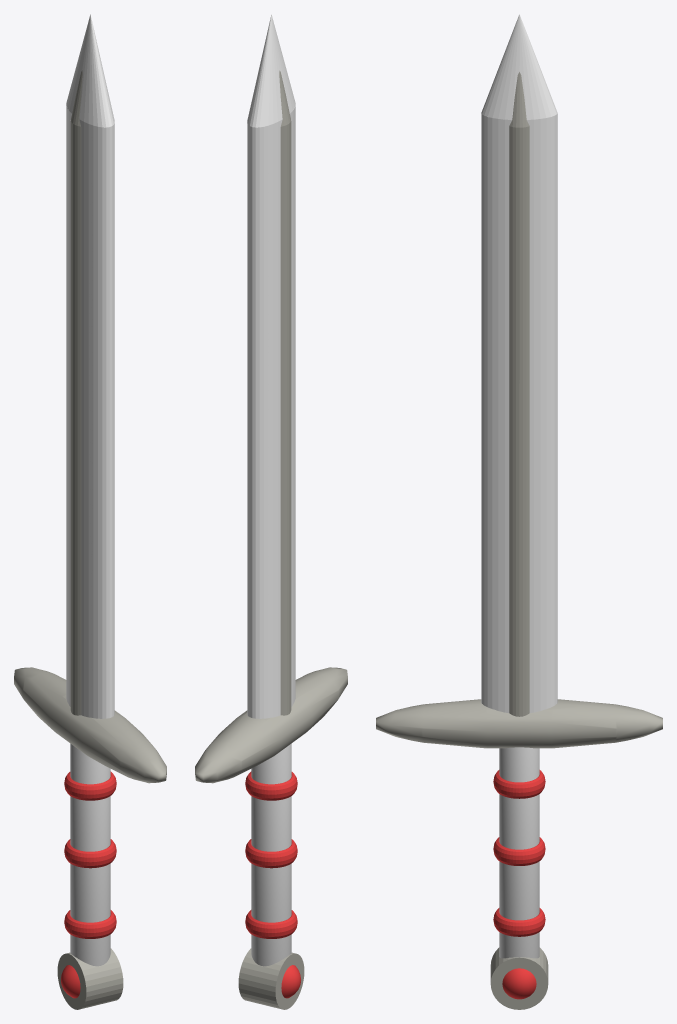
File: Glad Sword.fbx
3 renders of one model, left to right at view 1: azimuth 30°, elevation 25°; view 2: azimuth 150°, elevation 25°; view 3: azimuth 270°, elevation 25°, orthographic.
Visible parts, largest first — view 1: Cone, Cylinder.002, Mball, Cylinder, Cylinder.001, Torus.001, Torus, Torus.002, Sphere; view 2: Cone, Cylinder.002, Mball, Cylinder, Cylinder.001, Torus.001, Torus, Torus.002, Sphere; view 3: Cone, Cylinder.002, Mball, Cylinder, Cylinder.001, Torus, Torus.001, Torus.002, Sphere.
Part boxes in pixels (box(x1,y1,x2,y2)): Cone: box(66, 14, 114, 718); Cylinder.002: box(70, 70, 82, 715); Mball: box(14, 667, 166, 783); Cylinder: box(70, 743, 110, 966); Cylinder.001: box(57, 948, 123, 1009); Torus.001: box(64, 839, 116, 868); Torus: box(64, 910, 116, 938); Torus.002: box(64, 771, 116, 800); Sphere: box(61, 965, 80, 998); Cone: box(247, 14, 295, 718); Cylinder.002: box(279, 70, 291, 715); Mball: box(195, 667, 347, 783); Cylinder: box(251, 743, 291, 966); Cylinder.001: box(238, 948, 304, 1009); Torus.001: box(245, 839, 297, 868); Torus: box(245, 910, 297, 938); Torus.002: box(245, 771, 297, 800); Sphere: box(281, 965, 300, 998); Cone: box(481, 14, 557, 712); Cylinder.002: box(509, 72, 529, 716); Mball: box(376, 699, 662, 748); Cylinder: box(499, 747, 539, 958); Cylinder.001: box(490, 947, 548, 1009); Torus: box(493, 908, 545, 936); Torus.001: box(493, 837, 545, 865); Torus.002: box(493, 770, 545, 798); Sphere: box(502, 968, 536, 999).
Bounding box in the file's own units: 115 × 1995 × 525.
